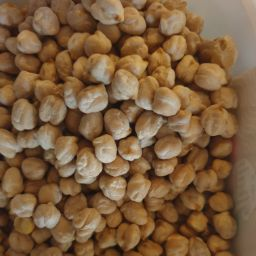White Chickpeas: (3, 7, 242, 256), (52, 65, 185, 207)
